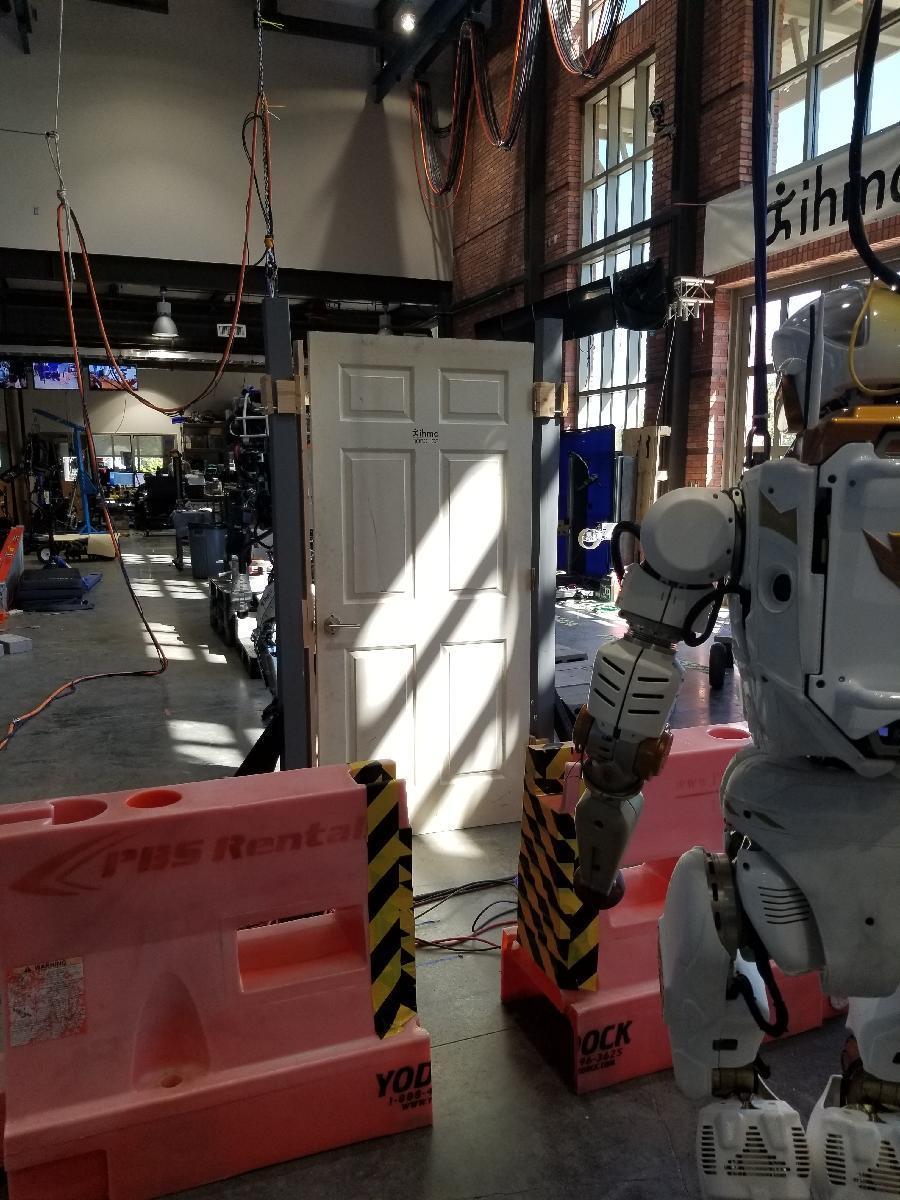door: (300, 326, 536, 837)
handle: (320, 613, 362, 637)
